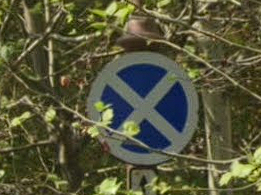oprirea_interzisa: (84, 49, 204, 170)
